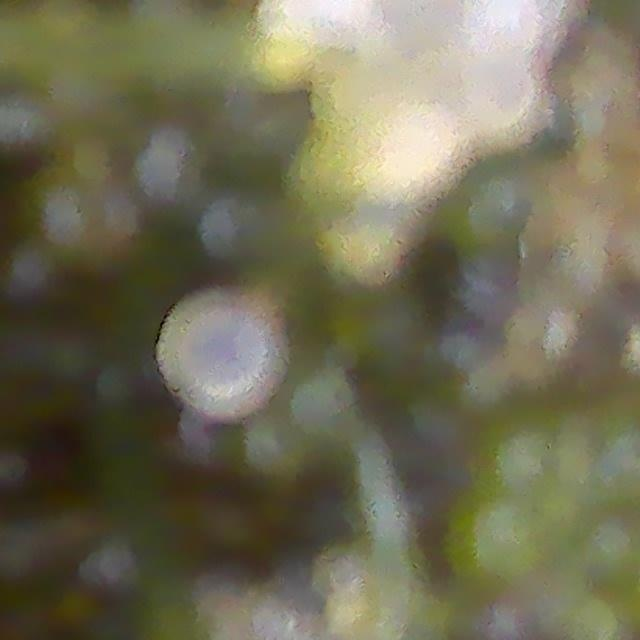SeaGrape: (153, 284, 290, 410), (434, 480, 558, 599), (562, 392, 640, 515), (570, 512, 640, 597), (0, 234, 70, 318), (463, 52, 535, 133), (463, 0, 542, 55)
